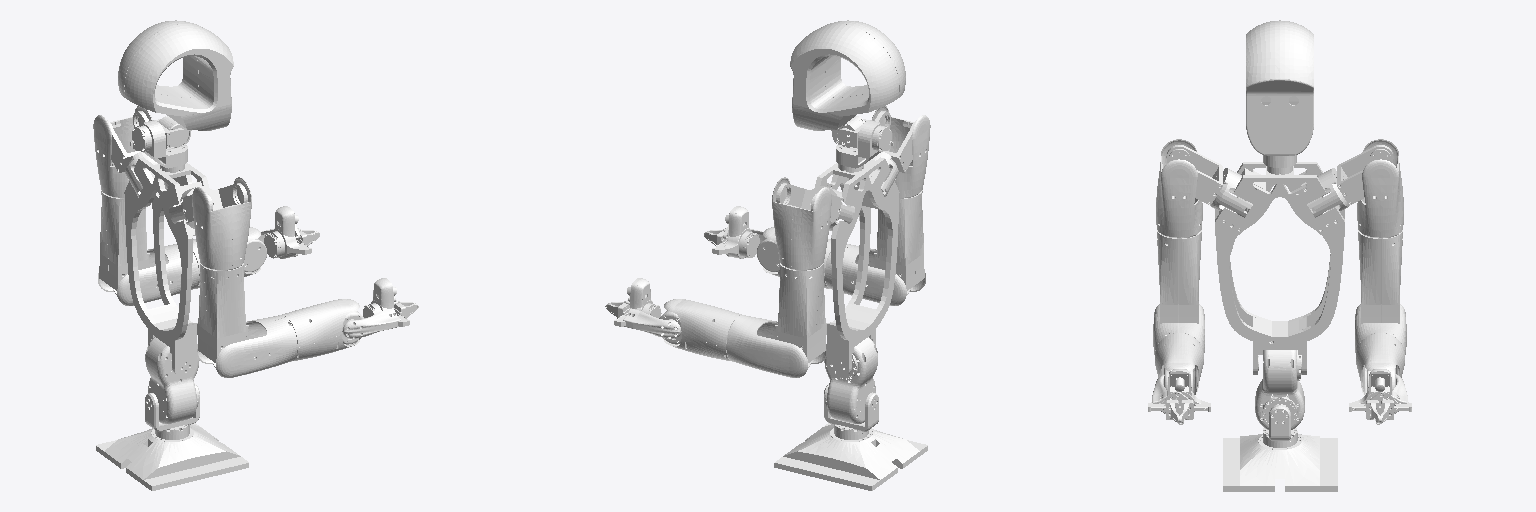
robot.urdf — Semi_Taks_T1:
<robot name="Semi_Taks_T1">
  <mujoco>
    <compiler meshdir="meshes" discardvisual="false"/>
  </mujoco>

  <link name="world">
    <inertial>
      <origin xyz="0 0 0" rpy="0 0 0"/>
      <mass value="0.001"/>
      <inertia ixx="1e-06" ixy="0" ixz="0" iyy="1e-06" iyz="0" izz="1e-06"/>
    </inertial>
  </link>
  <joint name="base_link" type="floating">
    <parent link="world"/>
    <child link="base_link"/>
  </joint>

  <link name="base_link">
    <inertial>
      <origin xyz="0.000209 0.000196 0.010637" rpy="0 0 0"/>
      <mass value="3.2"/>
      <inertia ixx="0.00782171" ixy="-1.39438e-07" ixz="-6.20861e-06" iyy="0.00839916" iyz="5.68284e-07" izz="0.0145816"/>
    </inertial>
    <visual>
      <origin xyz="0 0 0" rpy="0 0 0"/>
      <geometry>
        <mesh filename="meshes/base_link.STL"/>
      </geometry>
      <material name="white">
        <color rgba="1.0 1.0 1.0 1.0"/>
      </material>
    </visual>
    <collision>
      <origin xyz="0 0 0" rpy="0 0 0"/>
      <geometry>
        <mesh filename="meshes/base_link.STL"/>
      </geometry>
      <mujoco>
        <geom contype="2" conaffinity="1"/>
      </mujoco>
    </collision>
  </link>

  <!-- Upper Body -->
  <link name="waist_yaw_link">
    <inertial>
      <origin xyz="0.000703 0.000036 0.023511" rpy="0 0 0"/>
      <mass value="0.79"/>
      <inertia ixx="0.000424115" ixy="-7.88004e-10" ixz="-1.35964e-06" iyy="0.00139043" iyz="-3.146e-10" izz="0.00115195"/>
    </inertial>
    <visual>
      <origin xyz="0 0 0" rpy="0 0 0"/>
      <geometry>
        <mesh filename="meshes/waist_yaw_link.STL"/>
      </geometry>
      <material name="white">
        <color rgba="1.0 1.0 1.0 1.0"/>
      </material>
    </visual>
    <collision>
      <origin xyz="0 0 0" rpy="0 0 0"/>
      <geometry>
        <mesh filename="meshes/waist_yaw_link.STL"/>
      </geometry>
      <mujoco>
        <geom contype="2" conaffinity="1"/>
      </mujoco>
    </collision>
  </link>
  <joint name="waist_yaw_joint" type="revolute">
    <origin xyz="0.0 0.0 0.058" rpy="0 0 0"/>
    <parent link="base_link"/>
    <child link="waist_yaw_link"/>
    <axis xyz="0.0 0.0 1.0"/>
    <limit lower="-2.618" upper="2.618" effort="97.0" velocity="4.19"/>
  </joint>

  <link name="waist_roll_link">
    <inertial>
      <origin xyz="-0.036458 0.001915 0.039503" rpy="0 0 0"/>
      <mass value="1.56"/>
      <inertia ixx="0.00365763" ixy="5.23222e-06" ixz="0.000103033" iyy="0.00365945" iyz="-0.000116974" izz="0.00122046"/>
    </inertial>
    <visual>
      <origin xyz="0 0 0" rpy="0 0 0"/>
      <geometry>
        <mesh filename="meshes/waist_roll_link.STL"/>
      </geometry>
      <material name="white">
        <color rgba="1.0 1.0 1.0 1.0"/>
      </material>
    </visual>
    <collision>
      <origin xyz="0 0 0" rpy="0 0 0"/>
      <geometry>
        <mesh filename="meshes/waist_roll_link.STL"/>
      </geometry>
      <mujoco>
        <geom contype="2" conaffinity="1"/>
      </mujoco>
    </collision>
  </link>
  <joint name="waist_roll_joint" type="revolute">
    <origin xyz="0.03813 3.7e-05 0.050906" rpy="0 0 0"/>
    <parent link="waist_yaw_link"/>
    <child link="waist_roll_link"/>
    <axis xyz="1.0 0.0 0.0"/>
    <limit lower="-0.52" upper="0.52" effort="97.0" velocity="4.19"/>
  </joint>

  <link name="torso_link">
    <inertial>
      <origin xyz="-0.000218 0.028412 0.216121" rpy="0 0 0"/>
      <mass value="2.01"/>
      <inertia ixx="0.0398056" ixy="2.45331e-06" ixz="3.33211e-05" iyy="0.0316306" iyz="0.000776359" izz="0.0103877"/>
    </inertial>
    <visual>
      <origin xyz="0 0 0" rpy="0 0 0"/>
      <geometry>
        <mesh filename="meshes/waist_pitch_link.STL"/>
      </geometry>
      <material name="white">
        <color rgba="1.0 1.0 1.0 1.0"/>
      </material>
    </visual>
    <collision>
      <origin xyz="0 0 0" rpy="0 0 0"/>
      <geometry>
        <mesh filename="meshes/waist_pitch_link.STL"/>
      </geometry>
      <mujoco>
        <geom contype="2" conaffinity="1"/>
      </mujoco>
    </collision>
  </link>
  <joint name="waist_pitch_joint" type="revolute">
    <origin xyz="-0.03813 -0.032925 0.079963" rpy="0 0 0"/>
    <parent link="waist_roll_link"/>
    <child link="torso_link"/>
    <axis xyz="0.0 1.0 0.0"/>
    <limit lower="-0.52" upper="0.52" effort="97.0" velocity="4.19"/>
  </joint>

  <!-- Arms -->
  <link name="left_shoulder_pitch_link">
    <inertial>
      <origin xyz="-0.003496 0.038568 0.000147" rpy="0 0 0"/>
      <mass value="0.24"/>
      <inertia ixx="0.000250427" ixy="4.18386e-05" ixz="2.58077e-07" iyy="0.000268432" iyz="-1.77057e-06" izz="0.000438494"/>
    </inertial>
    <visual>
      <origin xyz="0 0 0" rpy="0 0 0"/>
      <geometry>
        <mesh filename="meshes/left_shoulder_pitch_link.STL"/>
      </geometry>
      <material name="white">
        <color rgba="1.0 1.0 1.0 1.0"/>
      </material>
    </visual>
    <collision>
      <origin xyz="0 0 0" rpy="0 0 0"/>
      <geometry>
        <mesh filename="meshes/left_shoulder_pitch_link.STL"/>
      </geometry>
    </collision>
  </link>
  <joint name="left_shoulder_pitch_joint" type="revolute">
    <origin xyz="0.0 0.13582 0.33654" rpy="0.5235985985475524 0.0 0.0"/>
    <parent link="torso_link"/>
    <child link="left_shoulder_pitch_link"/>
    <axis xyz="0.0 1.0 0.0"/>
    <limit lower="-3.0892" upper="2.6704" effort="27.0" velocity="3.77"/>
  </joint>

  <link name="left_shoulder_roll_link">
    <inertial>
      <origin xyz="-0.034326 0.004104 -0.054527" rpy="0 0 0"/>
      <mass value="0.92"/>
      <inertia ixx="0.0017498" ixy="3.29232e-07" ixz="-3.22734e-06" iyy="0.0023048" iyz="-0.000103378" izz="0.00162172"/>
    </inertial>
    <visual>
      <origin xyz="0 0 0" rpy="0 0 0"/>
      <geometry>
        <mesh filename="meshes/left_shoulder_roll_link.STL"/>
      </geometry>
      <material name="white">
        <color rgba="1.0 1.0 1.0 1.0"/>
      </material>
    </visual>
    <collision>
      <origin xyz="0 0 0" rpy="0 0 0"/>
      <geometry>
        <mesh filename="meshes/left_shoulder_roll_link.STL"/>
      </geometry>
    </collision>
  </link>
  <joint name="left_shoulder_roll_joint" type="revolute">
    <origin xyz="0.03476 0.0835 0.000425" rpy="-0.5235985985475524 0.0 0.0"/>
    <parent link="left_shoulder_pitch_link"/>
    <child link="left_shoulder_roll_link"/>
    <axis xyz="1.0 0.0 0.0"/>
    <limit lower="-1.5882" upper="2.2515" effort="27.0" velocity="3.77"/>
  </joint>

  <link name="left_shoulder_yaw_link">
    <inertial>
      <origin xyz="0.000352 -0.000067 -0.086391" rpy="0 0 0"/>
      <mass value="0.625"/>
      <inertia ixx="0.00206874" ixy="2.28383e-06" ixz="3.18573e-07" iyy="0.00204889" iyz="3.39751e-06" izz="0.000836491"/>
    </inertial>
    <visual>
      <origin xyz="0 0 0" rpy="0 0 0"/>
      <geometry>
        <mesh filename="meshes/left_shoulder_yaw_link.STL"/>
      </geometry>
      <material name="white">
        <color rgba="1.0 1.0 1.0 1.0"/>
      </material>
    </visual>
    <collision>
      <origin xyz="0 0 0" rpy="0 0 0"/>
      <geometry>
        <mesh filename="meshes/left_shoulder_yaw_link.STL"/>
      </geometry>
      <mujoco>
        <geom contype="8" conaffinity="1"/>
      </mujoco>
    </collision>
  </link>
  <joint name="left_shoulder_yaw_joint" type="revolute">
    <origin xyz="-0.034375 0.0 -0.12" rpy="0 0 0"/>
    <parent link="left_shoulder_roll_link"/>
    <child link="left_shoulder_yaw_link"/>
    <axis xyz="0.0 0.0 1.0"/>
    <limit lower="-2.618" upper="2.618" effort="27.0" velocity="3.77"/>
  </joint>

  <link name="left_elbow_link">
    <inertial>
      <origin xyz="0.060290 -0.018897 -0.005505" rpy="0 0 0"/>
      <mass value="0.552"/>
      <inertia ixx="0.000989202" ixy="3.44852e-05" ixz="-6.49941e-05" iyy="0.00143131" iyz="-1.48861e-05" izz="0.00167487"/>
    </inertial>
    <visual>
      <origin xyz="0 0 0" rpy="0 0 0"/>
      <geometry>
        <mesh filename="meshes/left_elbow_link.STL"/>
      </geometry>
      <material name="white">
        <color rgba="1.0 1.0 1.0 1.0"/>
      </material>
    </visual>
    <collision>
      <origin xyz="0 0 0" rpy="0 0 0"/>
      <geometry>
        <mesh filename="meshes/left_elbow_link.STL"/>
      </geometry>
      <mujoco>
        <geom contype="8" conaffinity="1"/>
      </mujoco>
    </collision>
  </link>
  <joint name="left_elbow_joint" type="revolute">
    <origin xyz="0.000364 0.029113 -0.18099" rpy="0 0 0"/>
    <parent link="left_shoulder_yaw_link"/>
    <child link="left_elbow_link"/>
    <axis xyz="0.0 1.0 0.0"/>
    <limit lower="-0.7" upper="1.57" effort="27.0" velocity="3.77"/>
  </joint>

  <link name="left_wrist_roll_link">
    <inertial>
      <origin xyz="0.059365 -0.000127 0.000856" rpy="0 0 0"/>
      <mass value="0.508"/>
      <inertia ixx="0.000847141" ixy="-2.35849e-07" ixz="-1.01761e-05" iyy="0.00119508" iyz="-7.39738e-07" izz="0.00108891"/>
    </inertial>
    <visual>
      <origin xyz="0 0 0" rpy="0 0 0"/>
      <geometry>
        <mesh filename="meshes/left_wrist_roll_link.STL"/>
      </geometry>
      <material name="white">
        <color rgba="1.0 1.0 1.0 1.0"/>
      </material>
    </visual>
    <collision>
      <origin xyz="0 0 0" rpy="0 0 0"/>
      <geometry>
        <mesh filename="meshes/left_wrist_roll_link.STL"/>
      </geometry>
      <mujoco>
        <geom contype="8" conaffinity="1"/>
      </mujoco>
    </collision>
  </link>
  <joint name="left_wrist_roll_joint" type="revolute">
    <origin xyz="0.13 -0.029125 0.0" rpy="0 0 0"/>
    <parent link="left_elbow_link"/>
    <child link="left_wrist_roll_link"/>
    <axis xyz="1.0 0.0 0.0"/>
    <limit lower="-2.67" upper="2.67" effort="7.0" velocity="12.57"/>
  </joint>

  <link name="left_wrist_yaw_link">
    <inertial>
      <origin xyz="0.000001 0.001808 0.034229" rpy="0 0 0"/>
      <mass value="0.37"/>
      <inertia ixx="0.000161838" ixy="7.17778e-09" ixz="-6.5797e-08" iyy="0.00018503" iyz="5.48824e-07" izz="0.000151299"/>
    </inertial>
    <visual>
      <origin xyz="0 0 0" rpy="0 0 0"/>
      <geometry>
        <mesh filename="meshes/left_wrist_yaw_link.STL"/>
      </geometry>
      <material name="white">
        <color rgba="1.0 1.0 1.0 1.0"/>
      </material>
    </visual>
    <collision>
      <origin xyz="0 0 0" rpy="0 0 0"/>
      <geometry>
        <mesh filename="meshes/left_wrist_yaw_link.STL"/>
      </geometry>
      <mujoco>
        <geom contype="8" conaffinity="1"/>
      </mujoco>
    </collision>
  </link>
  <joint name="left_wrist_yaw_joint" type="revolute">
    <origin xyz="0.121 0.0 -0.0333" rpy="0 0 0"/>
    <parent link="left_wrist_roll_link"/>
    <child link="left_wrist_yaw_link"/>
    <axis xyz="0.0 0.0 1.0"/>
    <limit lower="-0.9" upper="0.9" effort="7.0" velocity="12.57"/>
  </joint>

  <link name="left_wrist_pitch_link">
    <inertial>
      <origin xyz="0.072931 -0.016145 0.006694" rpy="0 0 0"/>
      <mass value="0.308"/>
      <inertia ixx="0.000246269" ixy="7.5801e-05" ixz="-1.39804e-05" iyy="0.000348519" iyz="1.44425e-05" izz="0.00035919"/>
    </inertial>
    <visual>
      <origin xyz="0 0 0" rpy="0 0 0"/>
      <geometry>
        <mesh filename="meshes/left_wrist_pitch_link.STL"/>
      </geometry>
      <material name="white">
        <color rgba="1.0 1.0 1.0 1.0"/>
      </material>
    </visual>
    <collision>
      <origin xyz="0 0 0" rpy="0 0 0"/>
      <geometry>
        <mesh filename="meshes/left_wrist_pitch_link.STL"/>
      </geometry>
      <mujoco>
        <geom contype="8" conaffinity="1"/>
      </mujoco>
    </collision>
  </link>
  <joint name="left_wrist_pitch_joint" type="revolute">
    <origin xyz="0.0 0.022502 0.033299" rpy="0 0 0"/>
    <parent link="left_wrist_yaw_link"/>
    <child link="left_wrist_pitch_link"/>
    <axis xyz="0.0 1.0 0.0"/>
    <limit lower="-0.9" upper="0.9" effort="7.0" velocity="12.57"/>
  </joint>

  <link name="right_shoulder_pitch_link">
    <inertial>
      <origin xyz="-0.003496 -0.038568 0.000147" rpy="0 0 0"/>
      <mass value="0.24"/>
      <inertia ixx="0.000250427" ixy="-4.18386e-05" ixz="2.59332e-07" iyy="0.000268432" iyz="1.77275e-06" izz="0.000438494"/>
    </inertial>
    <visual>
      <origin xyz="0 0 0" rpy="0 0 0"/>
      <geometry>
        <mesh filename="meshes/right_shoulder_pitch_link.STL"/>
      </geometry>
      <material name="white">
        <color rgba="1.0 1.0 1.0 1.0"/>
      </material>
    </visual>
    <collision>
      <origin xyz="0 0 0" rpy="0 0 0"/>
      <geometry>
        <mesh filename="meshes/right_shoulder_pitch_link.STL"/>
      </geometry>
    </collision>
  </link>
  <joint name="right_shoulder_pitch_joint" type="revolute">
    <origin xyz="0.0 -0.069974 0.33654" rpy="-0.5235985985475524 0.0 0.0"/>
    <parent link="torso_link"/>
    <child link="right_shoulder_pitch_link"/>
    <axis xyz="0.0 1.0 0.0"/>
    <limit lower="-3.0892" upper="2.6704" effort="27.0" velocity="3.77"/>
  </joint>

  <link name="right_shoulder_roll_link">
    <inertial>
      <origin xyz="-0.027387 -0.004099 -0.054543" rpy="0 0 0"/>
      <mass value="0.92"/>
      <inertia ixx="0.00174968" ixy="2.23905e-07" ixz="-1.81555e-06" iyy="0.002305" iyz="0.000103081" izz="0.00162188"/>
    </inertial>
    <visual>
      <origin xyz="0 0 0" rpy="0 0 0"/>
      <geometry>
        <mesh filename="meshes/right_shoulder_roll_link.STL"/>
      </geometry>
      <material name="white">
        <color rgba="1.0 1.0 1.0 1.0"/>
      </material>
    </visual>
    <collision>
      <origin xyz="0 0 0" rpy="0 0 0"/>
      <geometry>
        <mesh filename="meshes/right_shoulder_roll_link.STL"/>
      </geometry>
    </collision>
  </link>
  <joint name="right_shoulder_roll_joint" type="revolute">
    <origin xyz="0.02776 -0.0835 0.000425" rpy="0.5235985985475524 0.0 0.0"/>
    <parent link="right_shoulder_pitch_link"/>
    <child link="right_shoulder_roll_link"/>
    <axis xyz="1.0 0.0 0.0"/>
    <limit lower="-2.2515" upper="1.5882" effort="27.0" velocity="3.77"/>
  </joint>

  <link name="right_shoulder_yaw_link">
    <inertial>
      <origin xyz="0.000351 0.000061 -0.086330" rpy="0 0 0"/>
      <mass value="0.625"/>
      <inertia ixx="0.00206938" ixy="2.13039e-06" ixz="4.95083e-09" iyy="0.00204967" iyz="-2.87596e-06" izz="0.000836599"/>
    </inertial>
    <visual>
      <origin xyz="0 0 0" rpy="0 0 0"/>
      <geometry>
        <mesh filename="meshes/right_shoulder_yaw_link.STL"/>
      </geometry>
      <material name="white">
        <color rgba="1.0 1.0 1.0 1.0"/>
      </material>
    </visual>
    <collision>
      <origin xyz="0 0 0" rpy="0 0 0"/>
      <geometry>
        <mesh filename="meshes/right_shoulder_yaw_link.STL"/>
      </geometry>
      <mujoco>
        <geom contype="16" conaffinity="1"/>
      </mujoco>
    </collision>
  </link>
  <joint name="right_shoulder_yaw_joint" type="revolute">
    <origin xyz="-0.027375 0.0 -0.12" rpy="0 0 0"/>
    <parent link="right_shoulder_roll_link"/>
    <child link="right_shoulder_yaw_link"/>
    <axis xyz="0.0 0.0 1.0"/>
    <limit lower="-2.618" upper="2.618" effort="27.0" velocity="3.77"/>
  </joint>

  <link name="right_elbow_link">
    <inertial>
      <origin xyz="0.060609 -0.027320 -0.005391" rpy="0 0 0"/>
      <mass value="0.552"/>
      <inertia ixx="0.00104558" ixy="-3.57132e-06" ixz="-6.39919e-05" iyy="0.00142279" iyz="-1.2025e-06" izz="0.00172675"/>
    </inertial>
    <visual>
      <origin xyz="0 0 0" rpy="0 0 0"/>
      <geometry>
        <mesh filename="meshes/right_elbow_link.STL"/>
      </geometry>
      <material name="white">
        <color rgba="1.0 1.0 1.0 1.0"/>
      </material>
    </visual>
    <collision>
      <origin xyz="0 0 0" rpy="0 0 0"/>
      <geometry>
        <mesh filename="meshes/right_elbow_link.STL"/>
      </geometry>
      <mujoco>
        <geom contype="16" conaffinity="1"/>
      </mujoco>
    </collision>
  </link>
  <joint name="right_elbow_joint" type="revolute">
    <origin xyz="0.000364 0.027375 -0.18099" rpy="0 0 0"/>
    <parent link="right_shoulder_yaw_link"/>
    <child link="right_elbow_link"/>
    <axis xyz="0.0 1.0 0.0"/>
    <limit lower="-0.7" upper="1.57" effort="27.0" velocity="3.77"/>
  </joint>

  <link name="right_wrist_roll_link">
    <inertial>
      <origin xyz="0.059348 -0.000124 0.000828" rpy="0 0 0"/>
      <mass value="0.508"/>
      <inertia ixx="0.000847235" ixy="-4.3175e-07" ixz="-1.06067e-05" iyy="0.00119552" iyz="-7.24785e-07" izz="0.00108942"/>
    </inertial>
    <visual>
      <origin xyz="0 0 0" rpy="0 0 0"/>
      <geometry>
        <mesh filename="meshes/right_wrist_roll_link.STL"/>
      </geometry>
      <material name="white">
        <color rgba="1.0 1.0 1.0 1.0"/>
      </material>
    </visual>
    <collision>
      <origin xyz="0 0 0" rpy="0 0 0"/>
      <geometry>
        <mesh filename="meshes/right_wrist_roll_link.STL"/>
      </geometry>
      <mujoco>
        <geom contype="16" conaffinity="1"/>
      </mujoco>
    </collision>
  </link>
  <joint name="right_wrist_roll_joint" type="revolute">
    <origin xyz="0.13 -0.027375 0.0" rpy="0 0 0"/>
    <parent link="right_elbow_link"/>
    <child link="right_wrist_roll_link"/>
    <axis xyz="1.0 0.0 0.0"/>
    <limit lower="-2.67" upper="2.67" effort="7.0" velocity="12.57"/>
  </joint>

  <link name="right_wrist_yaw_link">
    <inertial>
      <origin xyz="-0.000001 -0.001805 0.034231" rpy="0 0 0"/>
      <mass value="0.37"/>
      <inertia ixx="0.00016184" ixy="-9.17334e-09" ixz="-5.61025e-08" iyy="0.000185016" iyz="-5.51309e-07" izz="0.000151287"/>
    </inertial>
    <visual>
      <origin xyz="0 0 0" rpy="0 0 0"/>
      <geometry>
        <mesh filename="meshes/right_wrist_yaw_link.STL"/>
      </geometry>
      <material name="white">
        <color rgba="1.0 1.0 1.0 1.0"/>
      </material>
    </visual>
    <collision>
      <origin xyz="0 0 0" rpy="0 0 0"/>
      <geometry>
        <mesh filename="meshes/right_wrist_yaw_link.STL"/>
      </geometry>
      <mujoco>
        <geom contype="16" conaffinity="1"/>
      </mujoco>
    </collision>
  </link>
  <joint name="right_wrist_yaw_joint" type="revolute">
    <origin xyz="0.121 0.0 -0.0333" rpy="0 0 0"/>
    <parent link="right_wrist_roll_link"/>
    <child link="right_wrist_yaw_link"/>
    <axis xyz="0.0 0.0 1.0"/>
    <limit lower="-0.9" upper="0.9" effort="7.0" velocity="12.57"/>
  </joint>

  <link name="right_wrist_pitch_link">
    <inertial>
      <origin xyz="0.072931 0.016145 0.006694" rpy="0 0 0"/>
      <mass value="0.308"/>
      <inertia ixx="0.000246269" ixy="-7.58014e-05" ixz="-1.39808e-05" iyy="0.00034852" iyz="-1.44428e-05" izz="0.000359191"/>
    </inertial>
    <visual>
      <origin xyz="0 0 0" rpy="0 0 0"/>
      <geometry>
        <mesh filename="meshes/right_wrist_pitch_link.STL"/>
      </geometry>
      <material name="white">
        <color rgba="1.0 1.0 1.0 1.0"/>
      </material>
    </visual>
    <collision>
      <origin xyz="0 0 0" rpy="0 0 0"/>
      <geometry>
        <mesh filename="meshes/right_wrist_pitch_link.STL"/>
      </geometry>
      <mujoco>
        <geom contype="16" conaffinity="1"/>
      </mujoco>
    </collision>
  </link>
  <joint name="right_wrist_pitch_joint" type="revolute">
    <origin xyz="0.0 -0.0225 0.0333" rpy="0 0 0"/>
    <parent link="right_wrist_yaw_link"/>
    <child link="right_wrist_pitch_link"/>
    <axis xyz="0.0 1.0 0.0"/>
    <limit lower="-0.9" upper="0.9" effort="7.0" velocity="12.57"/>
  </joint>

  <!-- Neck -->
  <link name="neck_yaw_link">
    <inertial>
      <origin xyz="-0.026017 0.000004 0.044450" rpy="0 0 0"/>
      <mass value="0.4"/>
      <inertia ixx="0.000364466" ixy="1.379e-08" ixz="0.000192002" iyy="0.000510001" iyz="-8.97171e-09" izz="0.000337061"/>
    </inertial>
    <visual>
      <origin xyz="0 0 0" rpy="0 0 0"/>
      <geometry>
        <mesh filename="meshes/neck_yaw_link.STL"/>
      </geometry>
      <material name="white">
        <color rgba="1.0 1.0 1.0 1.0"/>
      </material>
    </visual>
    <collision>
      <origin xyz="0 0 0" rpy="0 0 0"/>
      <geometry>
        <mesh filename="meshes/neck_yaw_link.STL"/>
      </geometry>
      <mujoco>
        <geom contype="4" conaffinity="1"/>
      </mujoco>
    </collision>
  </link>
  <joint name="neck_yaw_joint" type="revolute">
    <origin xyz="0.0 0.032906 0.37165" rpy="6.399999997815467e-05 0.0 0.0"/>
    <parent link="torso_link"/>
    <child link="neck_yaw_link"/>
    <axis xyz="0.0 0.0 1.0"/>
    <limit lower="-1.57" upper="1.57" effort="3.0" velocity="15.71"/>
  </joint>

  <link name="neck_roll_link">
    <inertial>
      <origin xyz="0.057357 -0.000598 -0.000025" rpy="0 0 0"/>
      <mass value="0.026"/>
      <inertia ixx="1.34856e-05" ixy="-6.26247e-07" ixz="-3.80287e-09" iyy="6.53992e-06" iyz="2.51081e-09" izz="1.62635e-05"/>
    </inertial>
    <visual>
      <origin xyz="0 0 0" rpy="0 0 0"/>
      <geometry>
        <mesh filename="meshes/neck_roll_link.STL"/>
      </geometry>
      <material name="white">
        <color rgba="1.0 1.0 1.0 1.0"/>
      </material>
    </visual>
    <collision>
      <origin xyz="0 0 0" rpy="0 0 0"/>
      <geometry>
        <mesh filename="meshes/neck_roll_link.STL"/>
      </geometry>
      <mujoco>
        <geom contype="4" conaffinity="1"/>
      </mujoco>
    </collision>
  </link>
  <joint name="neck_roll_joint" type="revolute">
    <origin xyz="-0.0719 0.0 0.0708" rpy="0 0 0"/>
    <parent link="neck_yaw_link"/>
    <child link="neck_roll_link"/>
    <axis xyz="1.0 0.0 0.0"/>
    <limit lower="-0.873" upper="0.873" effort="3.0" velocity="15.71"/>
  </joint>

  <link name="neck_pitch_link">
    <inertial>
      <origin xyz="0.009305 -0.020598 0.085322" rpy="0 0 0"/>
      <mass value="0.6"/>
      <inertia ixx="0.00334466" ixy="1.35608e-06" ixz="0.00025961" iyy="0.00427182" iyz="1.60119e-05" izz="0.00230445"/>
    </inertial>
    <visual>
      <origin xyz="0 0 0" rpy="0 0 0"/>
      <geometry>
        <mesh filename="meshes/neck_pitch_link.STL"/>
      </geometry>
      <material name="white">
        <color rgba="1.0 1.0 1.0 1.0"/>
      </material>
    </visual>
    <collision>
      <origin xyz="0 0 0" rpy="0 0 0"/>
      <geometry>
        <mesh filename="meshes/neck_pitch_link.STL"/>
      </geometry>
      <mujoco>
        <geom contype="4" conaffinity="1"/>
      </mujoco>
    </collision>
  </link>
  <joint name="neck_pitch_joint" type="revolute">
    <origin xyz="0.0719 0.02095 0.0" rpy="0 0 0"/>
    <parent link="neck_roll_link"/>
    <child link="neck_pitch_link"/>
    <axis xyz="0.0 1.0 0.0"/>
    <limit lower="-0.873" upper="0.873" effort="3.0" velocity="15.71"/>
  </joint>

</robot>

--- Render facts (derived) ---
3 views of the same robot in one strip: view 1: azimuth 30°, elevation 25°; view 2: azimuth 150°, elevation 25°; view 3: azimuth 270°, elevation 25° (orthographic).
Model Semi_Taks_T1 with 22 links and 21 joints (20 revolute, 1 floating), rooted at world, posed all joints at 0.
Links seen in each view (by area): view 1: neck_pitch_link, torso_link, base_link, right_shoulder_yaw_link, right_shoulder_roll_link, right_elbow_link, left_shoulder_yaw_link, right_wrist_roll_link, waist_roll_link, right_wrist_pitch_link, left_shoulder_roll_link, left_elbow_link (+6 smaller); view 2: neck_pitch_link, torso_link, base_link, left_shoulder_yaw_link, left_shoulder_roll_link, left_elbow_link, right_shoulder_yaw_link, left_wrist_roll_link, waist_roll_link, left_wrist_pitch_link, right_shoulder_roll_link, right_elbow_link (+6 smaller); view 3: torso_link, neck_pitch_link, base_link, left_shoulder_yaw_link, right_shoulder_yaw_link, right_shoulder_roll_link, left_shoulder_roll_link, waist_roll_link, right_wrist_pitch_link, left_wrist_pitch_link, left_wrist_roll_link, right_wrist_roll_link (+6 smaller).
Boxes of the visible links, x1,y1,x2,y2 form: neck_pitch_link: (118,20,233,147); torso_link: (124,152,212,377); base_link: (96,423,248,490); right_shoulder_yaw_link: (198,263,245,362); right_shoulder_roll_link: (192,177,251,269); right_elbow_link: (196,315,297,377); left_shoulder_yaw_link: (99,190,147,290); right_wrist_roll_link: (282,299,359,360); waist_roll_link: (145,337,199,423); right_wrist_pitch_link: (343,278,418,338); left_shoulder_roll_link: (93,106,151,197); left_elbow_link: (98,244,198,305); neck_pitch_link: (790,20,905,147); torso_link: (811,152,899,377); base_link: (774,423,927,490); left_shoulder_yaw_link: (778,263,825,362); left_shoulder_roll_link: (772,177,831,269); left_elbow_link: (726,315,827,377); right_shoulder_yaw_link: (876,190,924,290); left_wrist_roll_link: (664,299,741,360); waist_roll_link: (824,337,877,423); left_wrist_pitch_link: (605,278,680,338); right_shoulder_roll_link: (872,106,930,197); right_elbow_link: (825,244,925,305); torso_link: (1211,162,1348,374); neck_pitch_link: (1246,20,1313,155); base_link: (1223,428,1337,491); left_shoulder_yaw_link: (1358,230,1402,323); right_shoulder_yaw_link: (1157,230,1201,323); right_shoulder_roll_link: (1156,139,1202,237); left_shoulder_roll_link: (1357,139,1403,237); waist_roll_link: (1255,350,1304,429); right_wrist_pitch_link: (1148,369,1210,424); left_wrist_pitch_link: (1349,369,1411,424); left_wrist_roll_link: (1356,333,1404,395); right_wrist_roll_link: (1155,333,1203,395).
Size in the robot's own frame: 0.502 by 0.459 by 0.8488 metres.
21 mesh visuals loaded from 21 distinct referenced files (21 binary STL).
